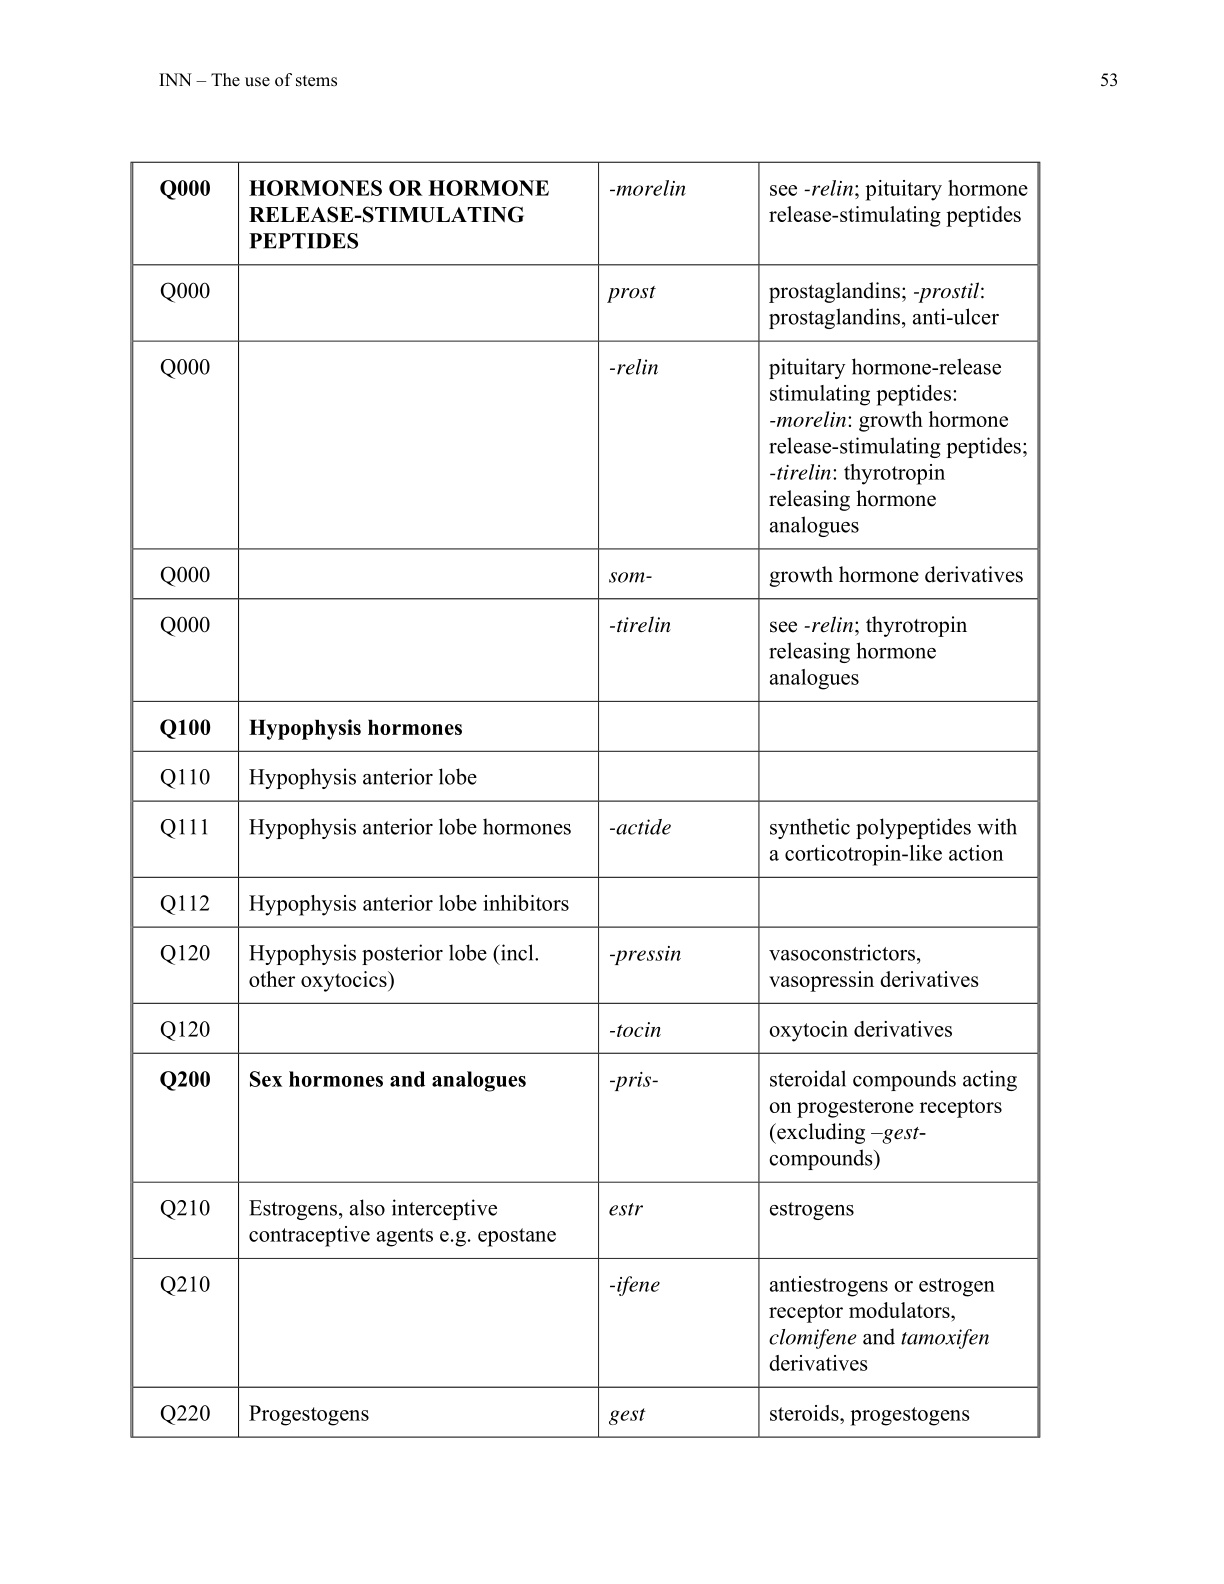full_lined: (129, 159, 1041, 1437)
